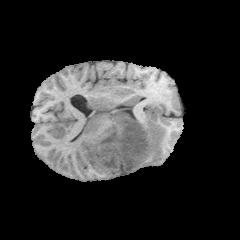glioma: (92, 121, 165, 171)
